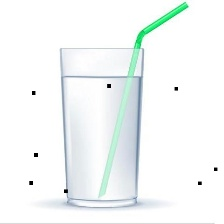drinking_straw: (93, 0, 191, 200)
glass: (51, 41, 149, 213)
